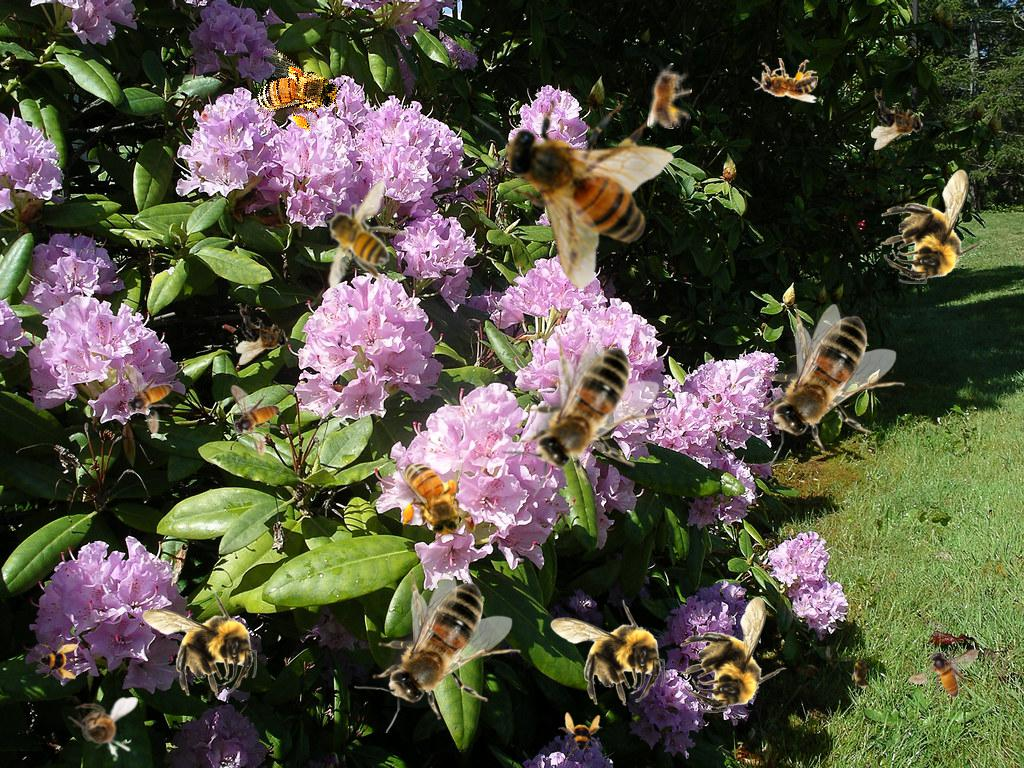Bee: (445, 48, 708, 314), (501, 336, 668, 498), (354, 571, 521, 733), (738, 304, 905, 466), (677, 595, 788, 714), (142, 590, 257, 697), (550, 599, 665, 706), (880, 169, 987, 284), (239, 42, 353, 143), (315, 179, 409, 290), (399, 450, 467, 543), (68, 697, 138, 758), (230, 385, 280, 456), (908, 648, 979, 698), (123, 364, 173, 435), (236, 303, 289, 365), (871, 88, 924, 150), (752, 58, 818, 103), (647, 63, 692, 129), (35, 637, 79, 681), (558, 712, 602, 756), (851, 653, 873, 693)
